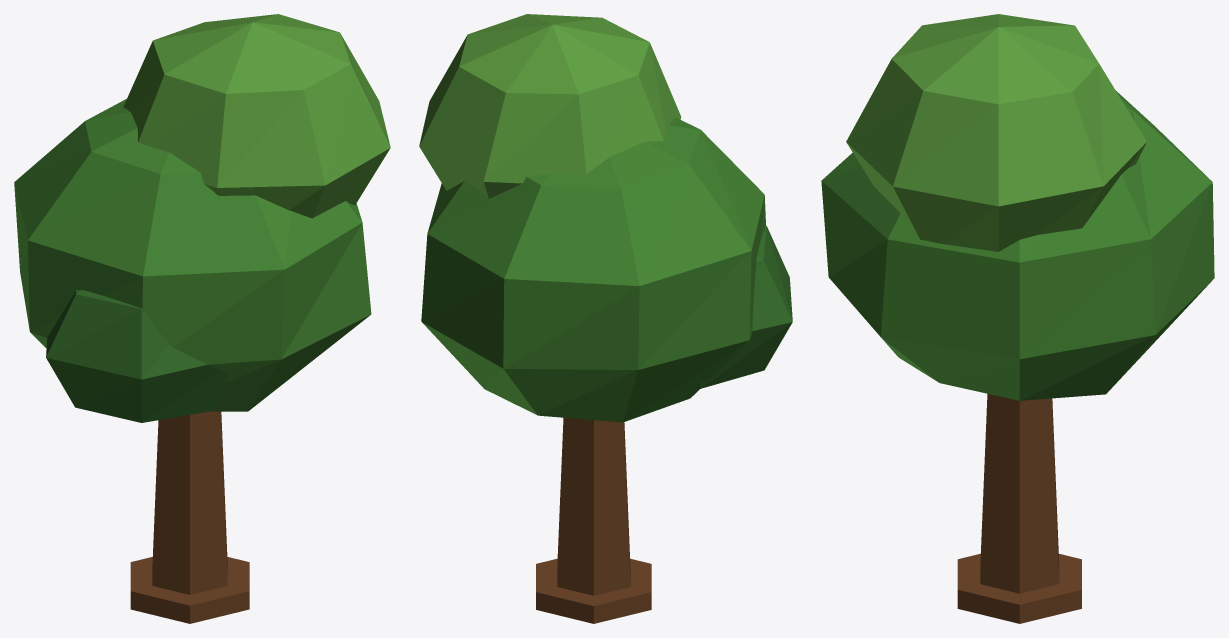
File: tree.glb
3 views of the same model, side by side, from view 1: azimuth 30°, elevation 25°; view 2: azimuth 150°, elevation 25°; view 3: azimuth 270°, elevation 25° (orthographic). The views are drawn at different scales.
Visible parts, largest first — view 1: body; view 2: body; view 3: body.
Part boxes in pixels (bbox=[...]): body: bbox=[14, 14, 390, 623]; body: bbox=[419, 14, 792, 623]; body: bbox=[821, 14, 1214, 623].
Size of the model in its own units: 2.02 by 3.1 by 1.86.
